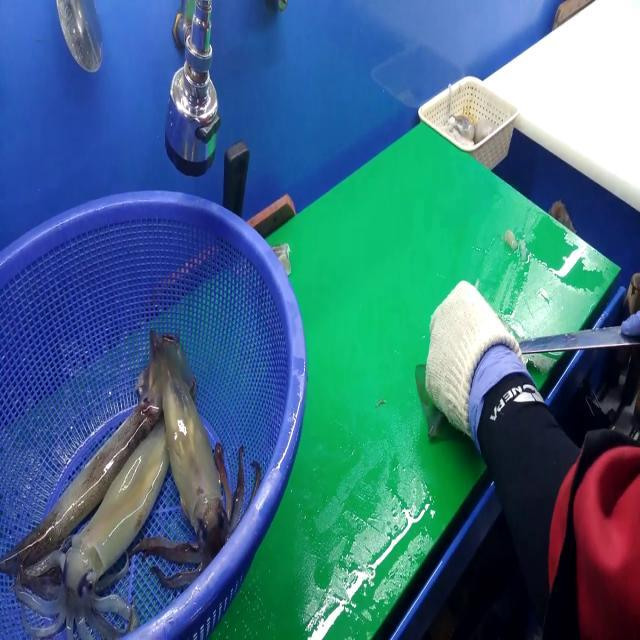SQUID: (35, 418, 182, 635), (142, 327, 252, 560)
